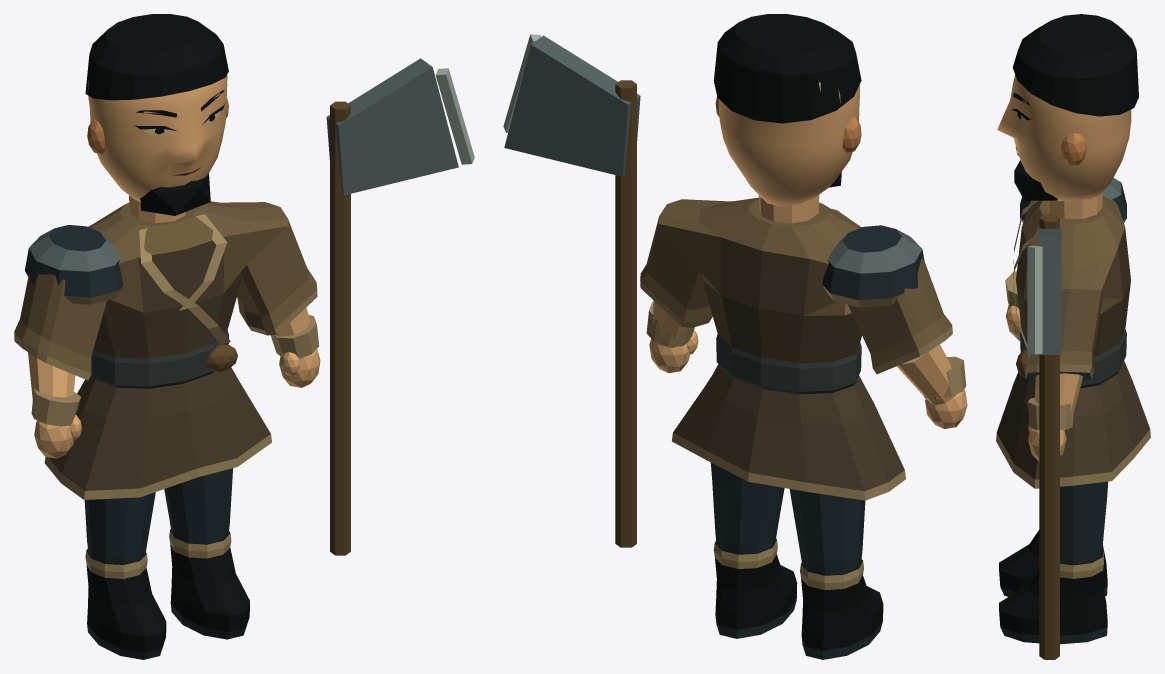
The model's file is Chongshan_Parts.fbx.
The picture shows the model from 3 angles, left to right: view 1: azimuth 30°, elevation 25°; view 2: azimuth 150°, elevation 25°; view 3: azimuth 270°, elevation 25°; orthographic projection. The views are drawn at different scales.
Visible parts, largest first — view 1: Short robe, Mountain axe blade, Angular oversized head, Cropped hair, Axe haft, Cloth boot, Cloth boot.001, Heavy shoulder guard, Trouser, Trouser.001, Short angular beard, Axe cutting edge (+6 smaller); view 2: Short robe, Cropped hair, Mountain axe blade, Angular oversized head, Axe haft, Heavy shoulder guard, Cloth boot, Cloth boot.001, Trouser, Trouser.001, Forearm, Neck (+4 smaller); view 3: Short robe, Cropped hair, Angular oversized head, Axe haft, Cloth boot.001, Trouser.001, Mountain axe blade, Cloth boot, Axe cutting edge, Neck, Short angular beard, Forearm.001 (+7 smaller).
Boxes of the visible parts, box(x1,y1,x2,y2) form: Short robe: box(14, 201, 317, 499); Mountain axe blade: box(326, 58, 458, 195); Angular oversized head: box(88, 75, 227, 202); Cropped hair: box(85, 14, 228, 100); Axe haft: box(330, 101, 350, 555); Cloth boot: box(85, 549, 166, 659); Cloth boot.001: box(169, 529, 249, 639); Heavy shoulder guard: box(25, 225, 123, 304); Trouser: box(84, 492, 155, 564); Trouser.001: box(164, 468, 233, 543); Short angular beard: box(140, 173, 210, 215); Axe cutting edge: box(435, 68, 474, 164); Short robe: box(640, 197, 952, 500); Cropped hair: box(713, 14, 861, 123); Mountain axe blade: box(504, 35, 640, 176); Angular oversized head: box(718, 82, 859, 206); Axe haft: box(615, 80, 636, 547); Heavy shoulder guard: box(822, 225, 924, 307); Cloth boot: box(800, 559, 883, 659); Cloth boot.001: box(713, 539, 797, 638); Trouser: box(789, 489, 865, 574); Trouser.001: box(710, 462, 784, 553); Forearm: box(897, 344, 956, 405); Neck: box(758, 195, 819, 223); Short robe: box(996, 196, 1150, 488); Cropped hair: box(1012, 14, 1138, 116); Angular oversized head: box(997, 74, 1131, 201); Axe haft: box(1039, 214, 1059, 659); Cloth boot.001: box(999, 549, 1107, 644); Trouser.001: box(1060, 481, 1108, 564); Mountain axe blade: box(1038, 227, 1061, 354); Cloth boot: box(999, 530, 1107, 596); Axe cutting edge: box(1027, 245, 1042, 354); Neck: box(1044, 193, 1102, 218); Short angular beard: box(1014, 160, 1057, 200); Forearm.001: box(1034, 373, 1082, 429).
Size of the model in its own units: 170 by 214 by 52.18.
Materials: 1 (1 with a texture image).
